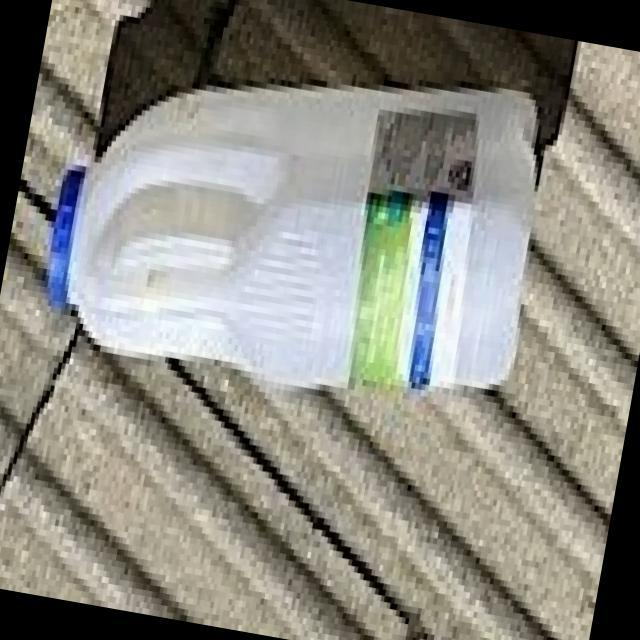HDPE Plastic: (45, 81, 541, 396)
